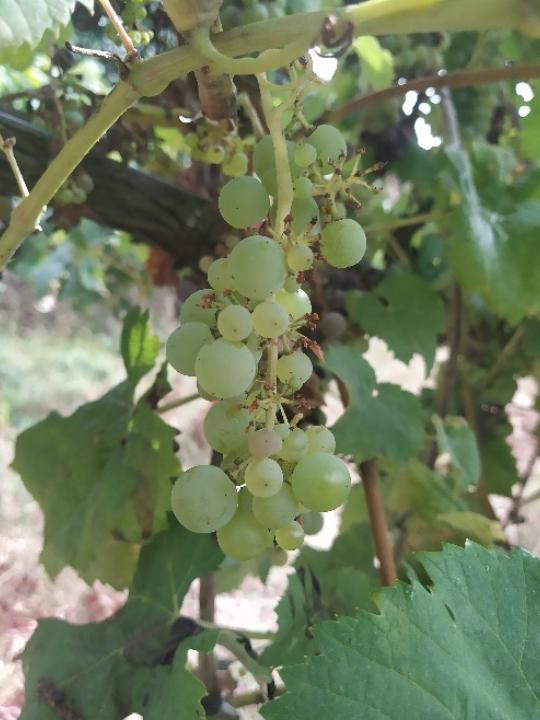grape: (162, 122, 370, 568)
